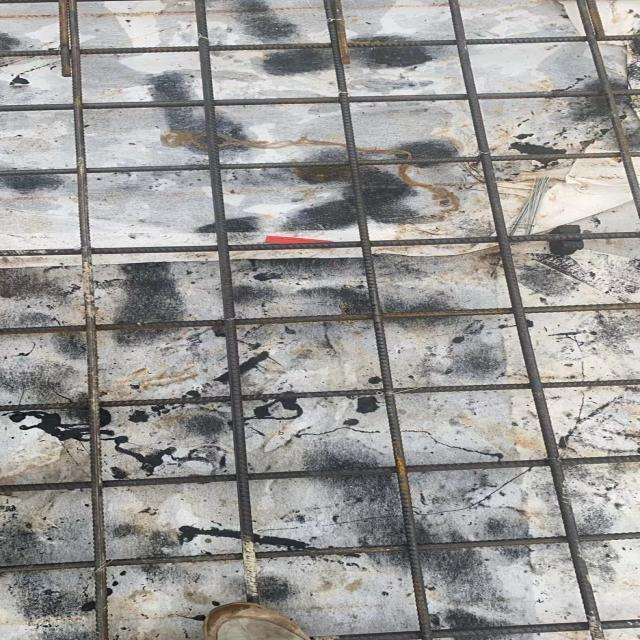ribbed bar: (445, 0, 606, 639), (322, 0, 434, 639), (191, 0, 260, 603), (0, 530, 639, 574), (66, 0, 108, 639), (0, 455, 639, 493), (0, 301, 639, 336), (0, 378, 639, 412), (0, 149, 639, 176), (0, 230, 639, 257), (0, 33, 639, 58), (0, 88, 639, 112), (575, 0, 638, 217), (295, 618, 639, 639)
